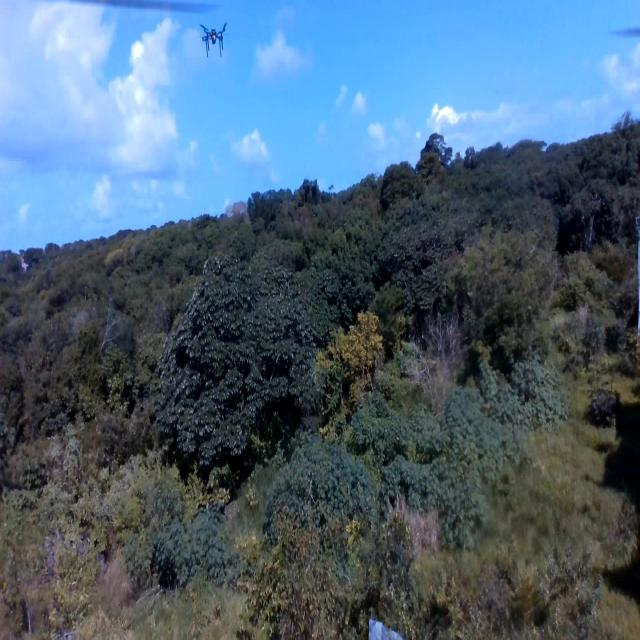-uav-: (195, 8, 234, 71)
